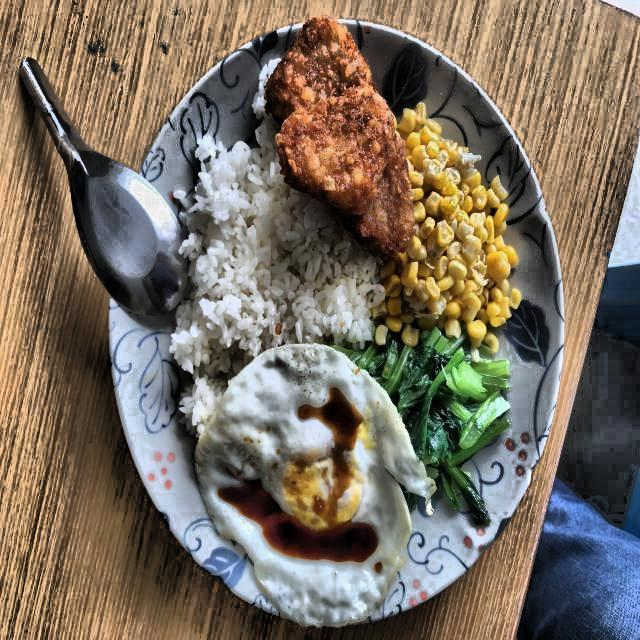Food: (193, 342, 414, 631), (264, 16, 415, 256), (184, 156, 358, 342), (386, 332, 508, 526)
